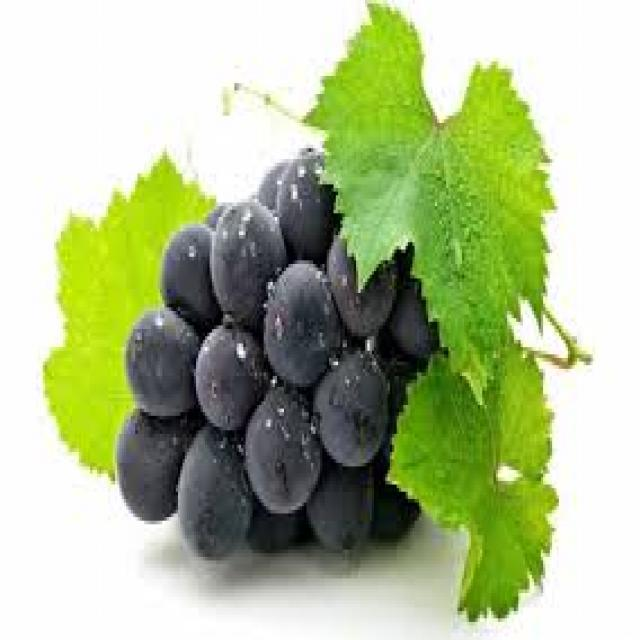organic waste: (110, 145, 438, 553), (302, 0, 556, 401), (43, 148, 230, 481), (385, 307, 559, 629)
